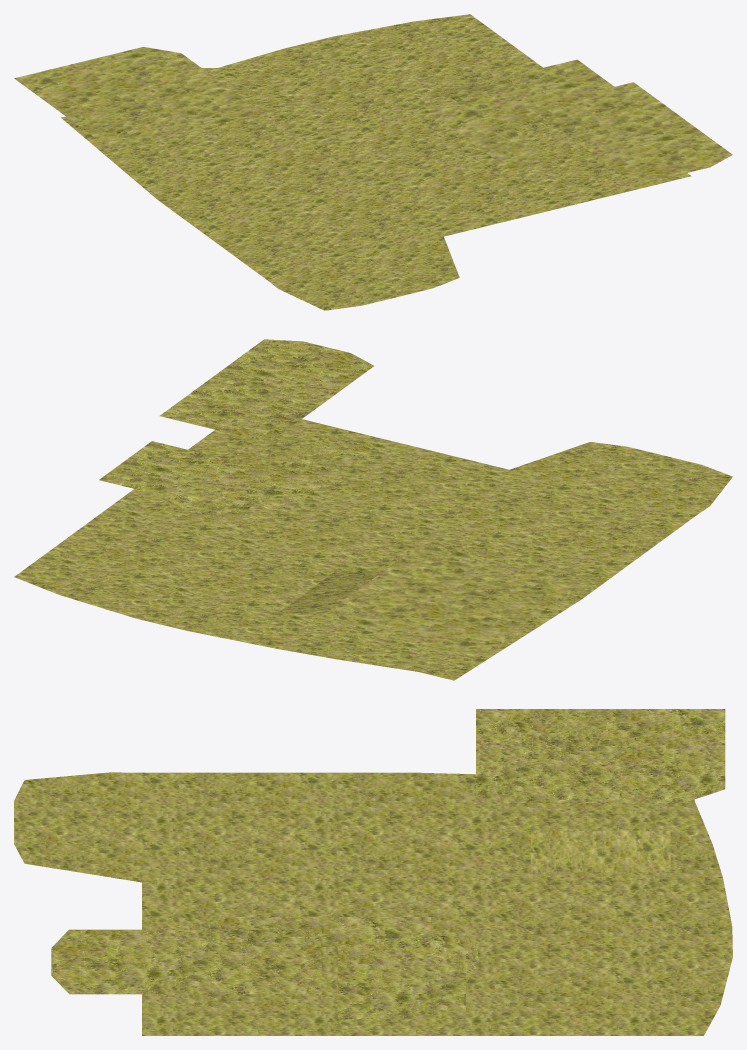
Rendered from SM_NeoLD_12_Grass_00.fbx.
3 views of the same model, one above another, from view 1: azimuth 30°, elevation 25°; view 2: azimuth 150°, elevation 25°; view 3: azimuth 270°, elevation 25° (orthographic). The views are drawn at different scales.
Parts seen in each view (by area): view 1: SM_NeoLD_12_Grass_00; view 2: SM_NeoLD_12_Grass_00; view 3: SM_NeoLD_12_Grass_00.
Part boxes in pixels (bbox=[...]): SM_NeoLD_12_Grass_00: bbox=[14, 14, 732, 310]; SM_NeoLD_12_Grass_00: bbox=[14, 339, 732, 680]; SM_NeoLD_12_Grass_00: bbox=[14, 709, 732, 1035].
Bounding box in the file's own units: 3340 × 270 × 3551.
